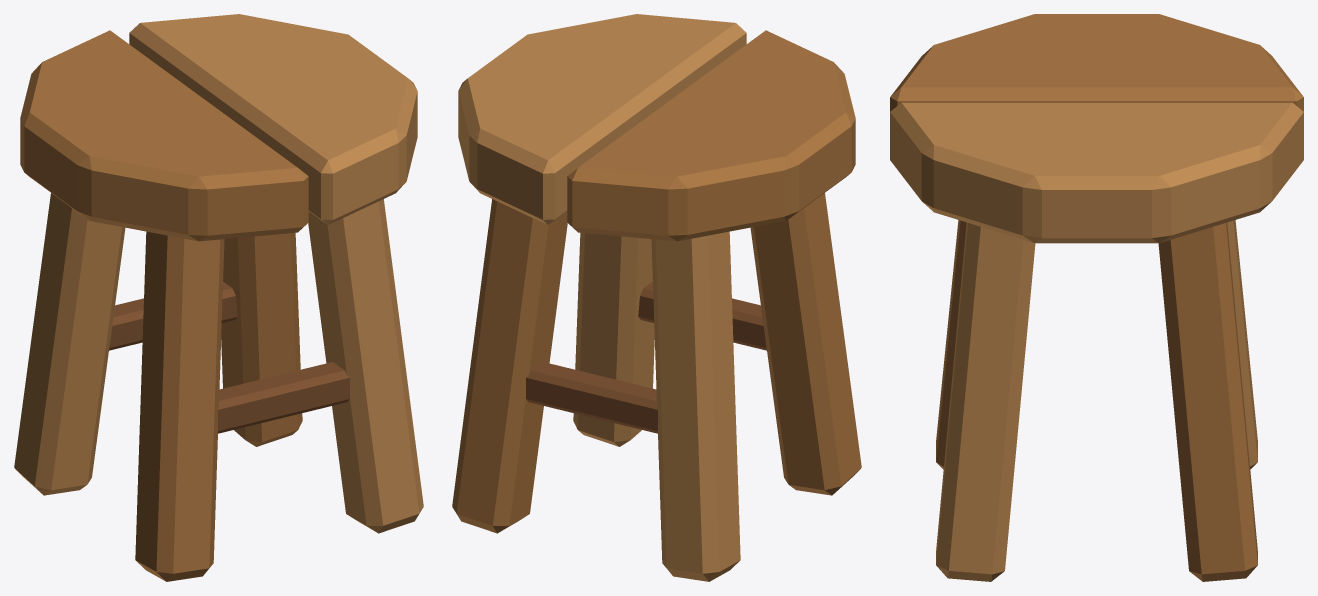
Rendered from stool.glb.
3 renders of one model, left to right at view 1: azimuth 30°, elevation 25°; view 2: azimuth 150°, elevation 25°; view 3: azimuth 270°, elevation 25°, orthographic. The views are drawn at different scales.
Parts seen in each view (by area): view 1: stool; view 2: stool; view 3: stool.
Boxes of the visible parts, x1,y1,x2,y2 form: stool: [14, 14, 423, 581]; stool: [452, 14, 861, 581]; stool: [890, 14, 1303, 581].
Bounding box in the file's own units: 0.3804 × 0.4436 × 0.3893.
